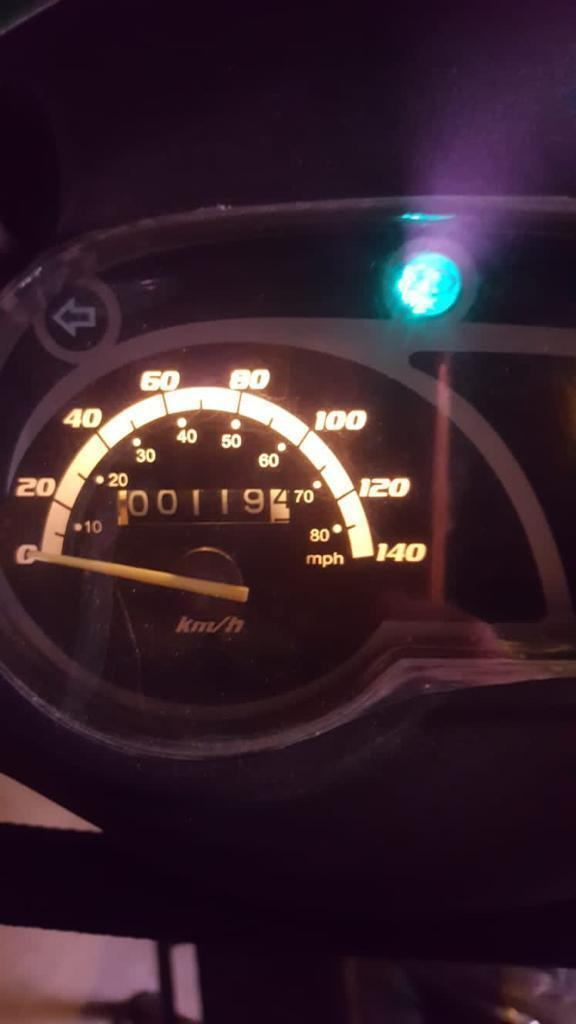0: (156, 488, 178, 516), (127, 489, 149, 517)
1: (191, 487, 199, 516), (220, 487, 228, 515)
4: (273, 485, 291, 508)
9: (242, 487, 264, 514)
odometer: (115, 485, 292, 527)
